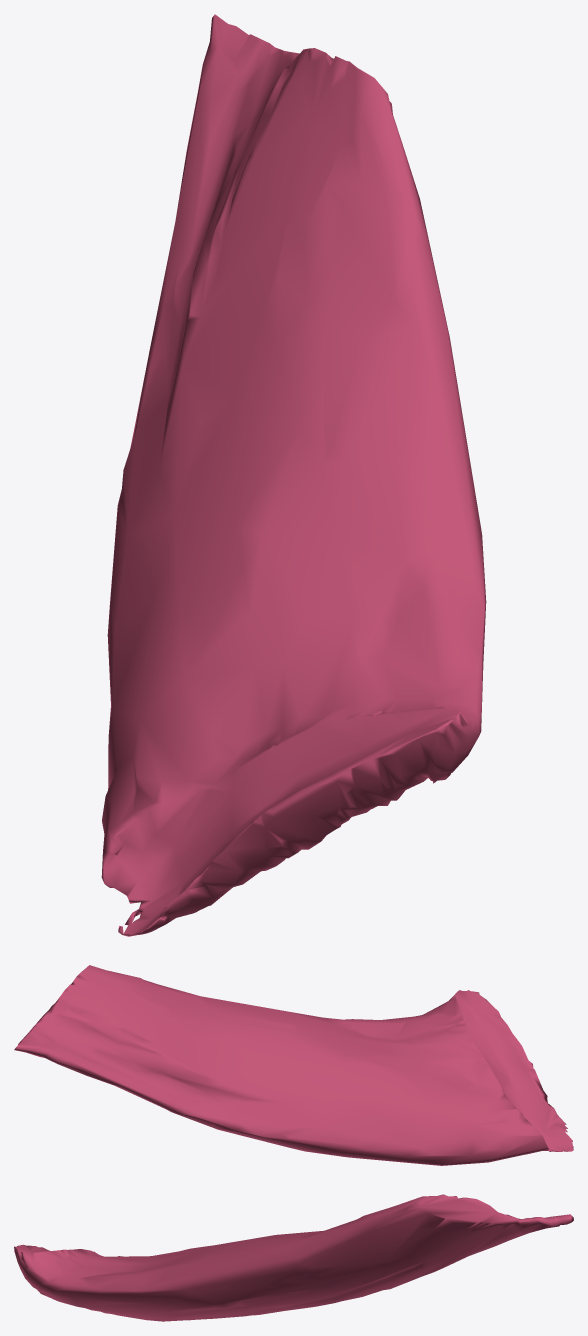
3 views of the same model, one above another, from view 1: azimuth 30°, elevation 25°; view 2: azimuth 150°, elevation 25°; view 3: azimuth 270°, elevation 25° (orthographic). The views are drawn at different scales.
Parts seen in each view (by area): view 1: 左侧耻骨肌; view 2: 左侧耻骨肌; view 3: 左侧耻骨肌.
Part boxes in pixels (bbox=[...]): 左侧耻骨肌: bbox=[101, 14, 486, 936]; 左侧耻骨肌: bbox=[14, 965, 573, 1165]; 左侧耻骨肌: bbox=[14, 1194, 573, 1321].
Bounding box in the file's own units: 0.122 × 0.0893 × 0.1934.
